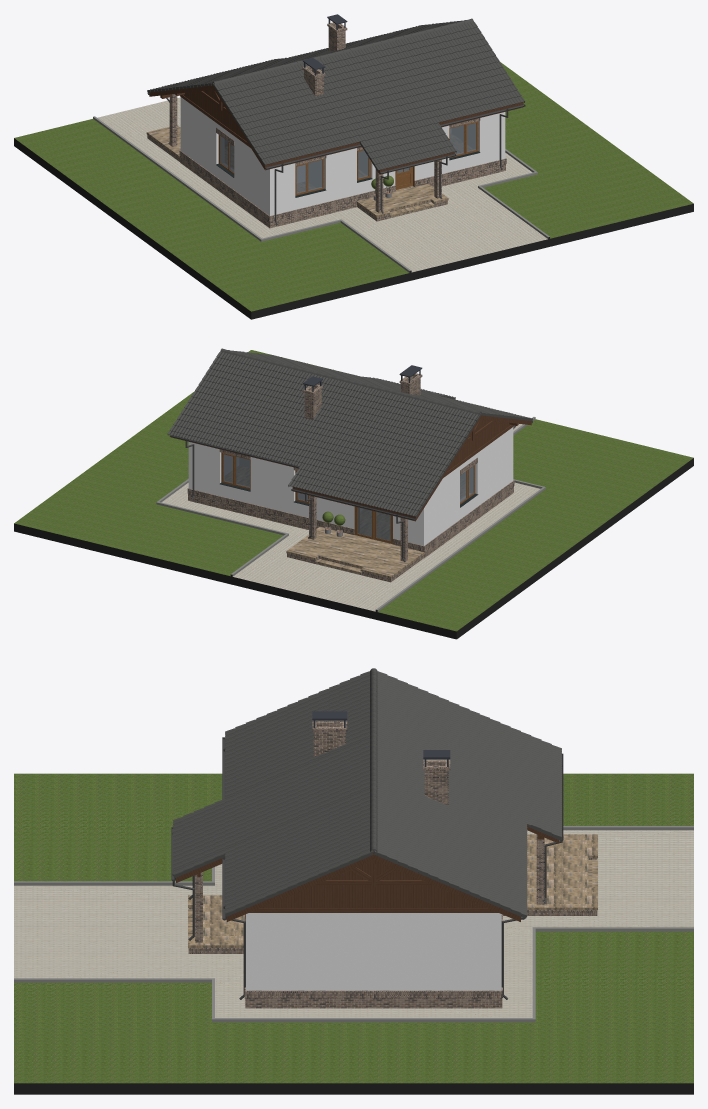
The model's file is Дюсюбаев 3.fbx.
The picture shows the model from 3 angles, top to bottom: view 1: azimuth 30°, elevation 25°; view 2: azimuth 150°, elevation 25°; view 3: azimuth 270°, elevation 25°; orthographic projection. The views are drawn at different scales.
Visible parts, largest first — view 1: Ландшафт-Трава зеленая, GDLM39__coated_dark_grey, Кирпич-цвет Белый, Поверх.-Гипс штукатур., Краска-04, Кирпич-цвет Старый, Кирпич-цвет Старый 90, Плитка желто-коричневая 25x25, Дерево Обшивка темная, Стекло голубое, Kling RAL 9016 PURE WHITE, Краска-03 (+2 smaller); view 2: Ландшафт-Трава зеленая, GDLM39__coated_dark_grey, Поверх.-Гипс штукатур., Кирпич-цвет Белый, Краска-04, Плитка желто-коричневая 25x25, Кирпич-цвет Старый, Кирпич-цвет Старый 90, Дерево Обшивка темная, Стекло голубое, Kling RAL 9016 PURE WHITE, Краска-03 (+1 smaller); view 3: Ландшафт-Трава зеленая, GDLM39__coated_dark_grey, Кирпич-цвет Белый, Поверх.-Гипс штукатур., Краска-04, Дерево Обшивка темная, Плитка желто-коричневая 25x25, Кирпич-цвет Старый, Kling RAL 9016 PURE WHITE, Кирпич-цвет Старый 90, Краска-03, Дерево Обшивка темная 90 (+1 smaller).
Boxes of the visible parts, <box> form: Ландшафт-Трава зеленая: <box>14,62,693,311</box>; GDLM39__coated_dark_grey: <box>147,18,524,171</box>; Кирпич-цвет Белый: <box>97,97,547,272</box>; Поверх.-Гипс штукатур.: <box>180,97,505,215</box>; Краска-04: <box>14,138,693,319</box>; Кирпич-цвет Старый: <box>169,23,505,228</box>; Кирпич-цвет Старый 90: <box>147,22,506,221</box>; Плитка желто-коричневая 25x25: <box>146,125,472,217</box>; Дерево Обшивка темная: <box>149,84,523,174</box>; Стекло голубое: <box>220,123,476,193</box>; Kling RAL 9016 PURE WHITE: <box>93,116,549,272</box>; Краска-03: <box>147,92,525,224</box>; Ландшафт-Трава зеленая: <box>14,350,693,631</box>; GDLM39__coated_dark_grey: <box>167,348,532,517</box>; Поверх.-Гипс штукатур.: <box>188,427,513,545</box>; Кирпич-цвет Белый: <box>161,400,540,611</box>; Краска-04: <box>14,458,693,639</box>; Плитка желто-коричневая 25x25: <box>225,466,465,578</box>; Кирпич-цвет Старый: <box>188,373,513,561</box>; Кирпич-цвет Старый 90: <box>187,373,514,582</box>; Дерево Обшивка темная: <box>171,415,531,521</box>; Стекло голубое: <box>223,454,474,540</box>; Kling RAL 9016 PURE WHITE: <box>156,417,545,611</box>; Краска-03: <box>169,421,532,561</box>; Ландшафт-Трава зеленая: <box>14,773,693,1083</box>; GDLM39__coated_dark_grey: <box>173,668,561,918</box>; Кирпич-цвет Белый: <box>14,830,693,1017</box>; Поверх.-Гипс штукатур.: <box>246,913,501,990</box>; Краска-04: <box>14,1083,693,1094</box>; Дерево Обшивка темная: <box>176,824,558,921</box>; Плитка желто-коричневая 25x25: <box>188,834,597,948</box>; Кирпич-цвет Старый: <box>195,722,544,1008</box>; Kling RAL 9016 PURE WHITE: <box>14,826,693,1022</box>; Кирпич-цвет Старый 90: <box>188,721,597,998</box>; Краска-03: <box>171,737,563,999</box>; Дерево Обшивка темная 90: <box>197,835,543,912</box>.
Size of the model in its own units: 2302 by 2137 by 675.
31 materials, 19 textured.
